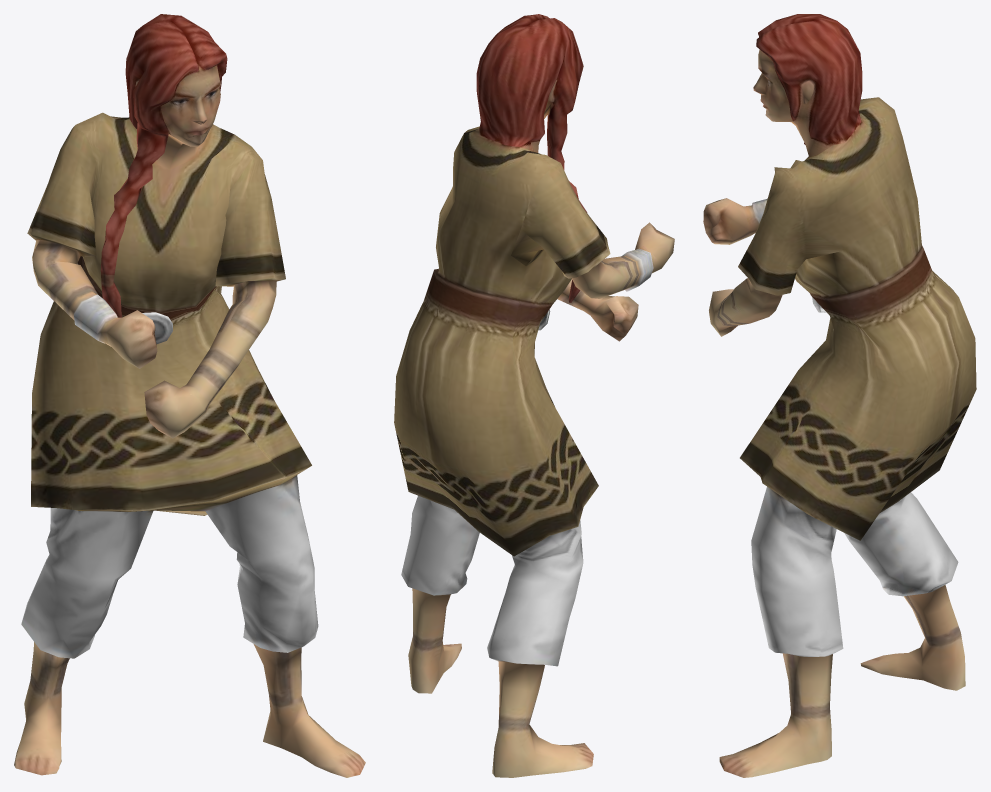
File: body-female-base.glb
The picture shows the model from 3 angles, left to right: view 1: azimuth 30°, elevation 25°; view 2: azimuth 150°, elevation 25°; view 3: azimuth 270°, elevation 25°; orthographic projection. The views are drawn at different scales.
Bounding box in the file's own units: 0.7586 × 1.98 × 0.7098.
1 material, 1 textured.
